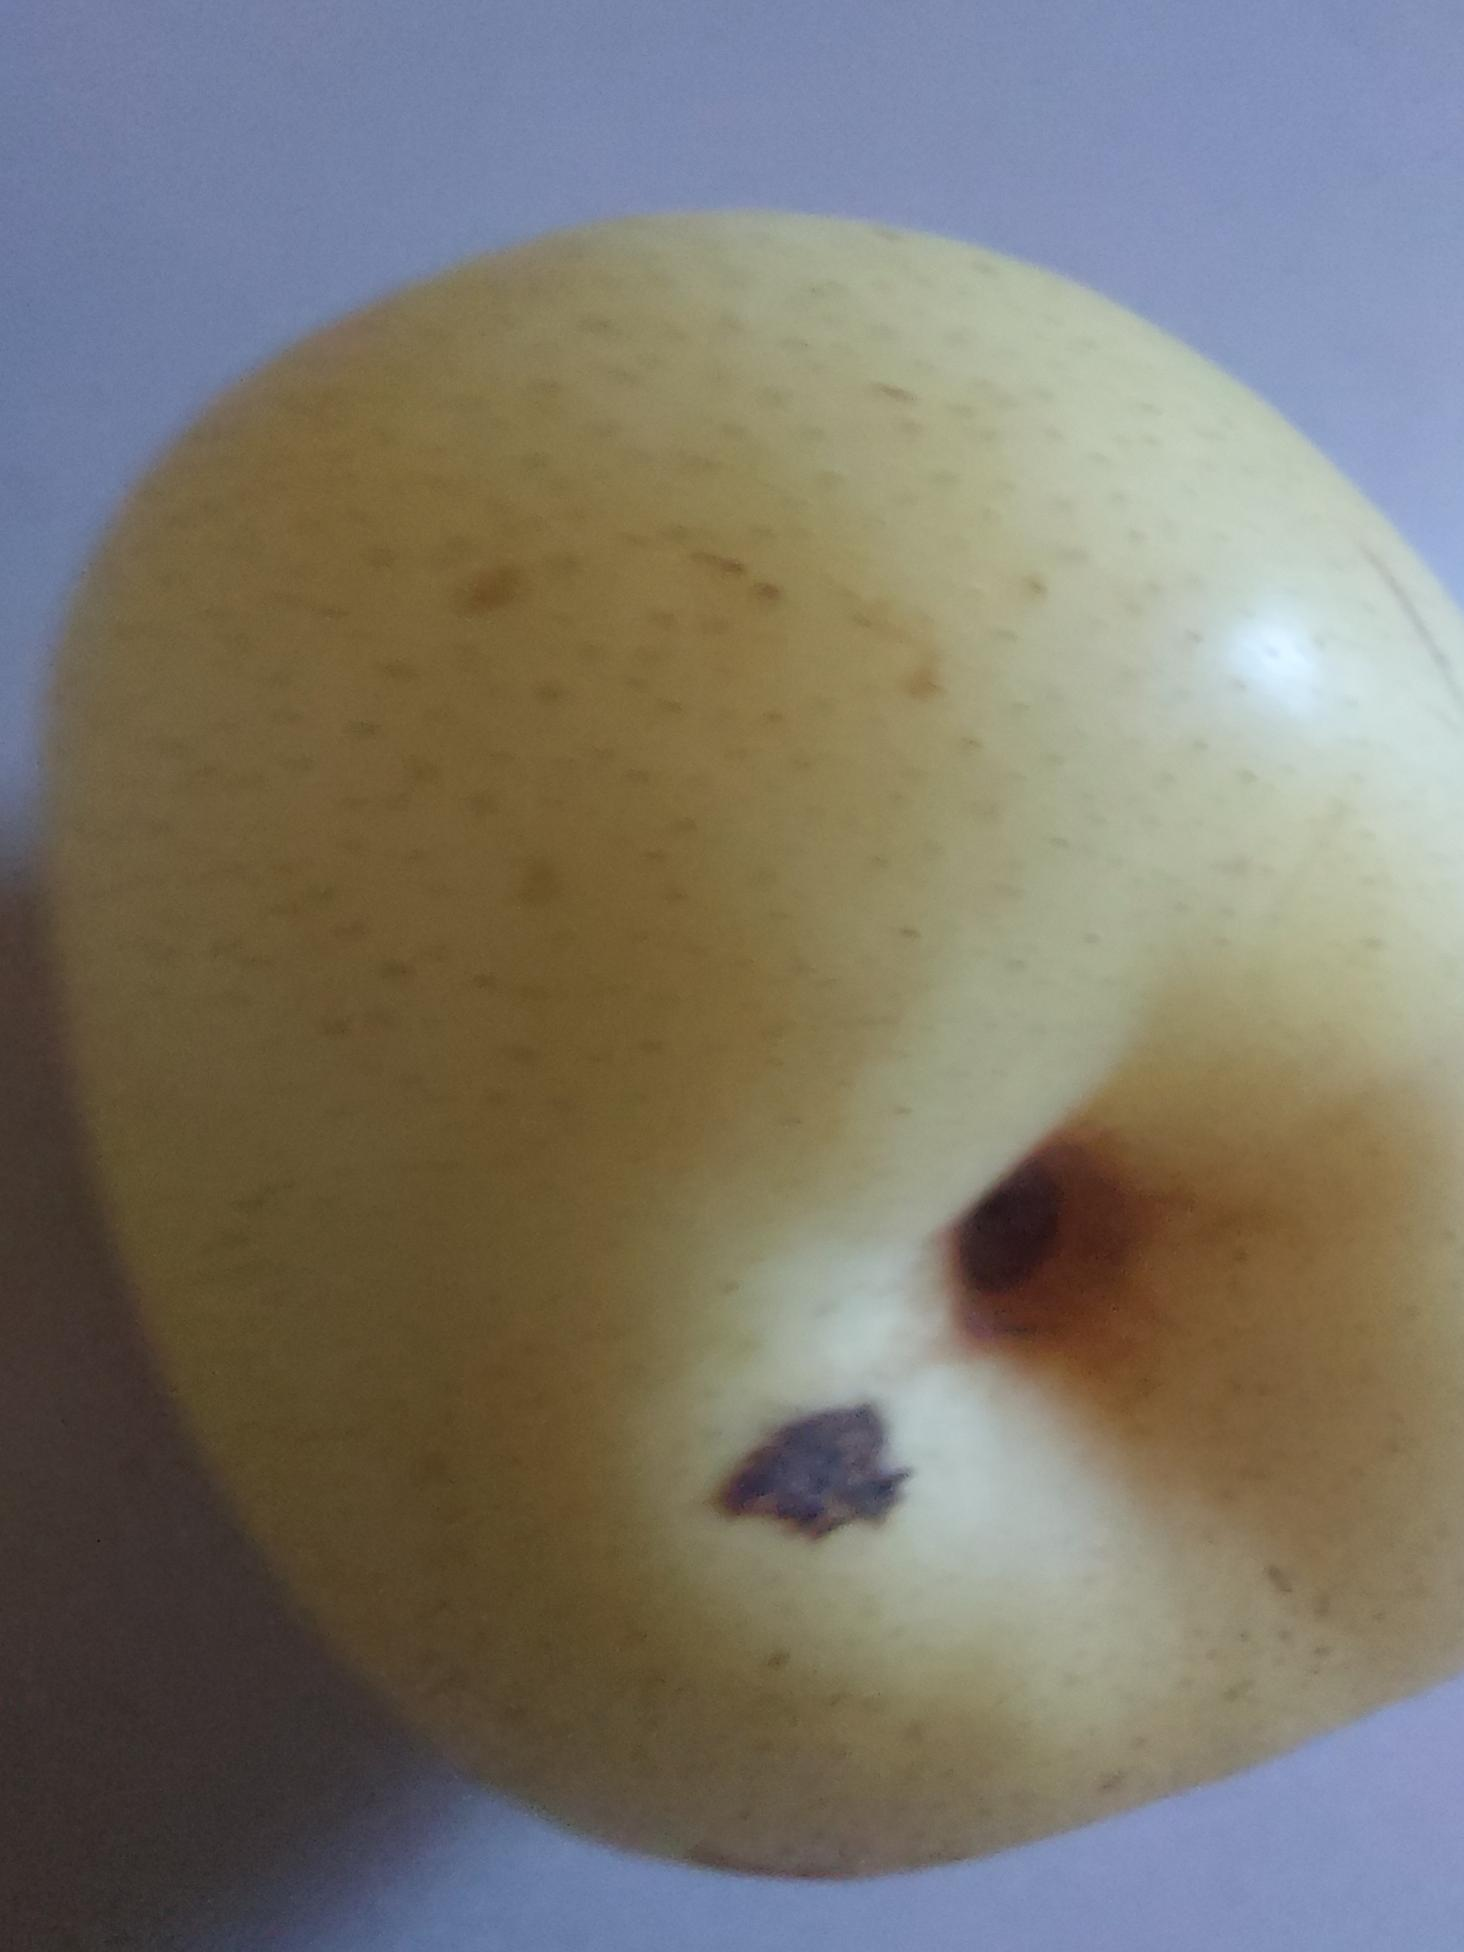Good Pear: (31, 160, 1464, 1923)
